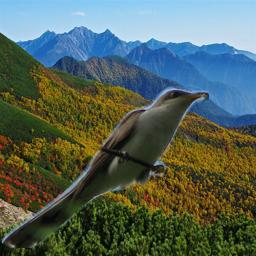Cuckoo: (2, 86, 209, 248)
